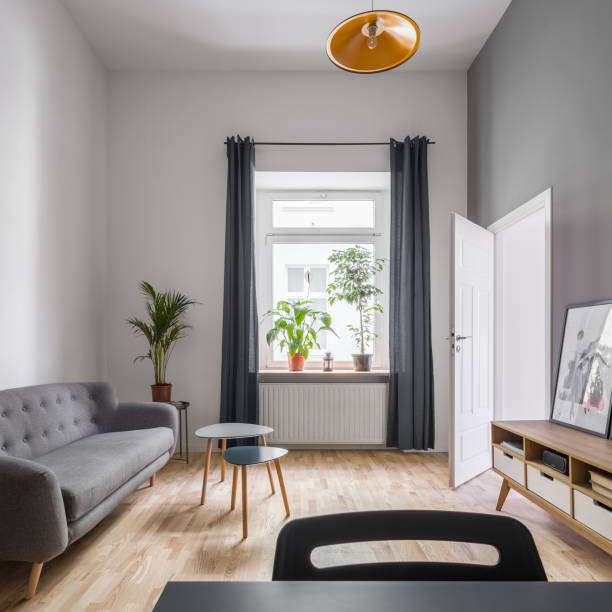large plant: (126, 278, 194, 402), (330, 239, 388, 374)
small plant: (265, 294, 334, 371)
sofa: (0, 379, 180, 572)
table: (198, 418, 292, 538)
wall art: (549, 295, 612, 438)
